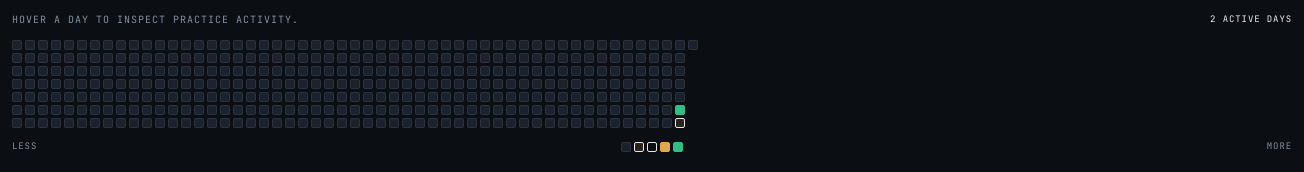
Test: StreakGrid › shows active-day count and hover summary for qualifying sessions
Expected: the text "2 active days" is shown, [1210,13,1292,27]
Expected: the text "Hover a day to inspect practice activity." is shown, [12,12,299,28]
Hover over the button named "2026-05-07 · 1 session · 3 min" at point(680, 123), box [675,118,685,128]
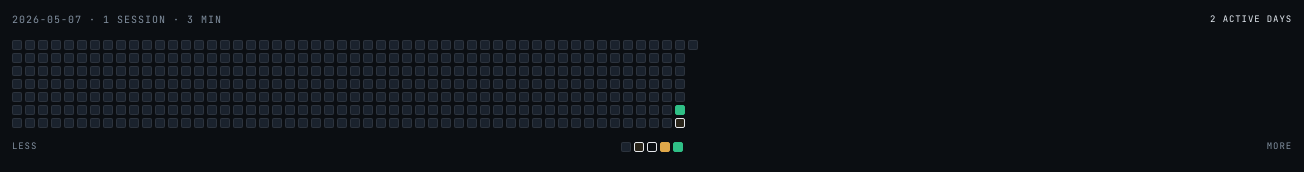
Now the text "2026-05-07 · 1 session · 3 min" is shown, box [12,12,222,28]
